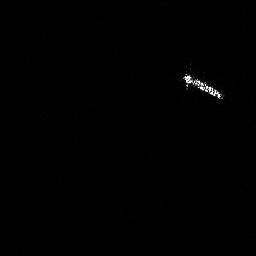ship: (177, 66, 227, 103)
